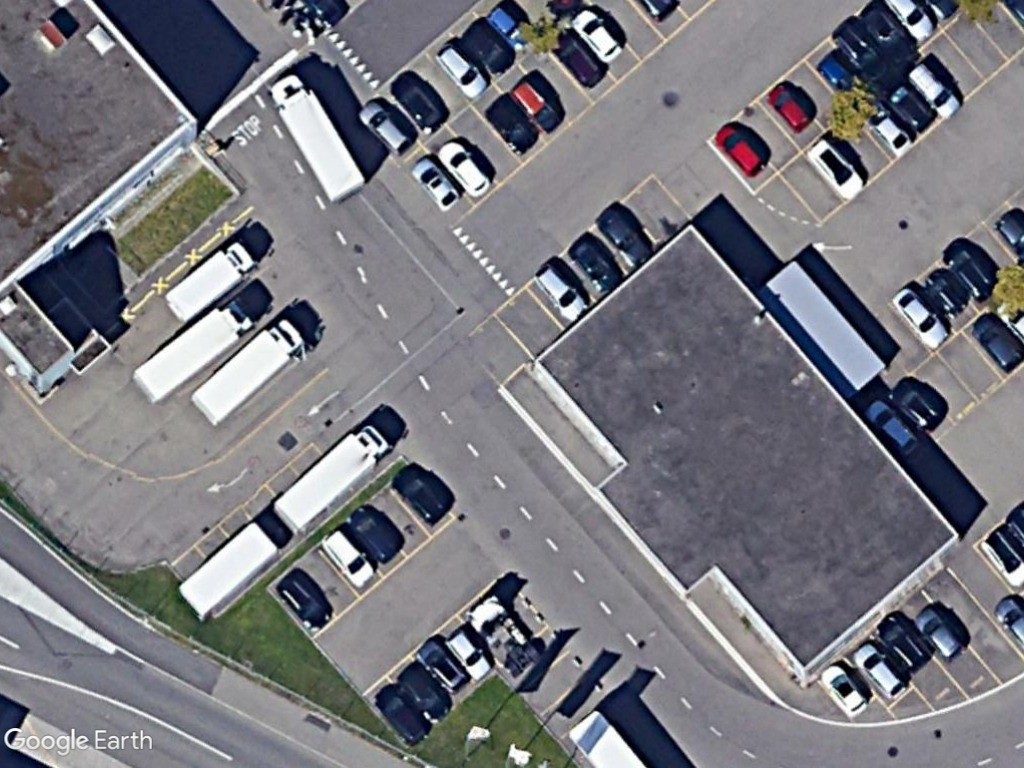car: (890, 286, 951, 352), (862, 392, 921, 460), (316, 525, 376, 587), (533, 259, 590, 324), (710, 121, 771, 181), (352, 98, 415, 156), (851, 640, 908, 704), (431, 40, 489, 100), (906, 59, 962, 120), (436, 138, 491, 197), (818, 662, 873, 721), (405, 155, 461, 212), (570, 6, 625, 64), (441, 626, 494, 683), (912, 606, 965, 661), (764, 81, 812, 133)
longvehicle: (174, 517, 281, 626)
truck: (188, 309, 309, 431), (269, 418, 392, 535), (264, 71, 367, 207), (130, 297, 252, 406), (160, 237, 261, 322)
